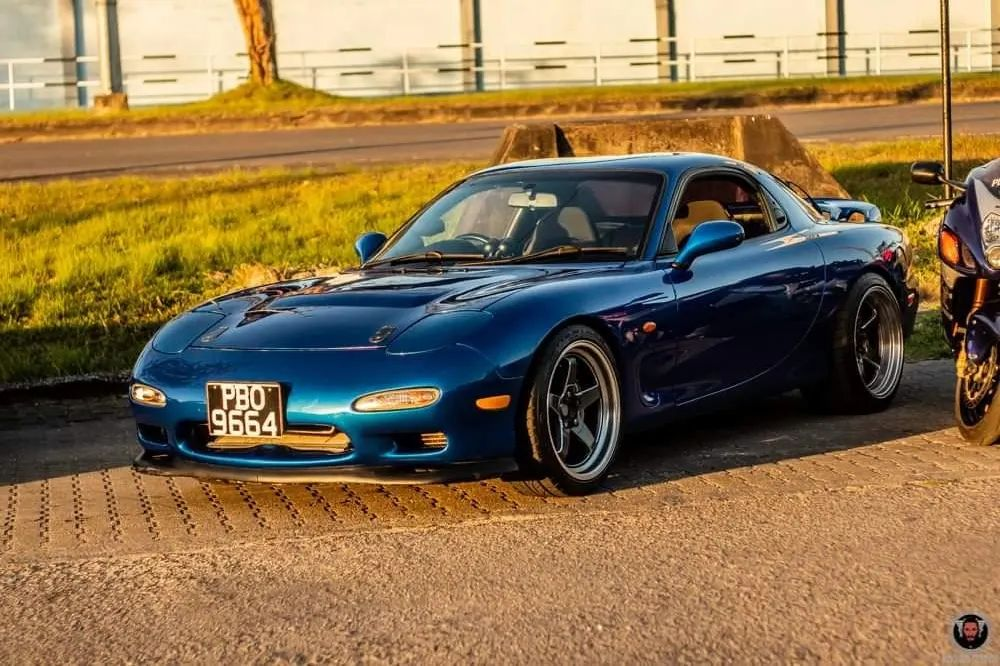License-Plate: (208, 383, 280, 435)
